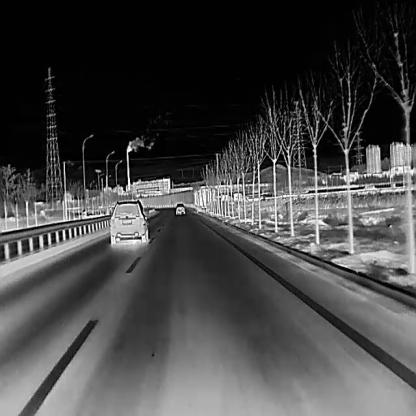car: (108, 198, 147, 245), (174, 201, 185, 215)
